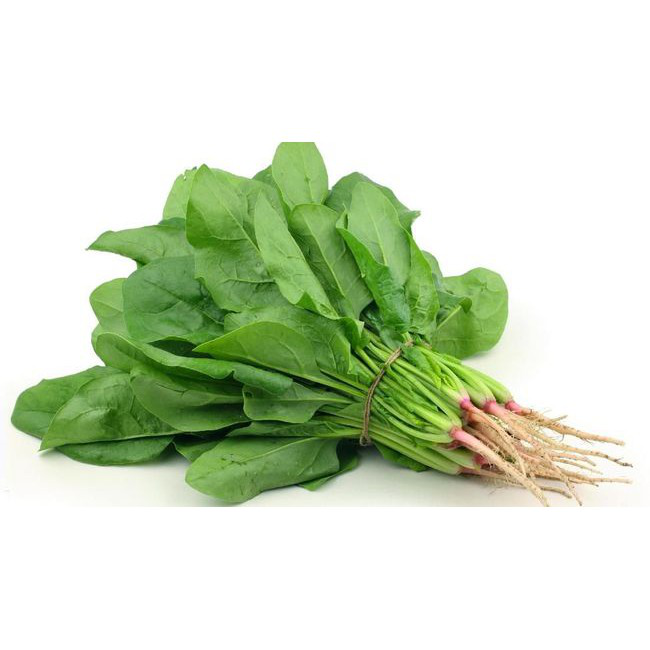Bayam: (8, 130, 642, 500)
